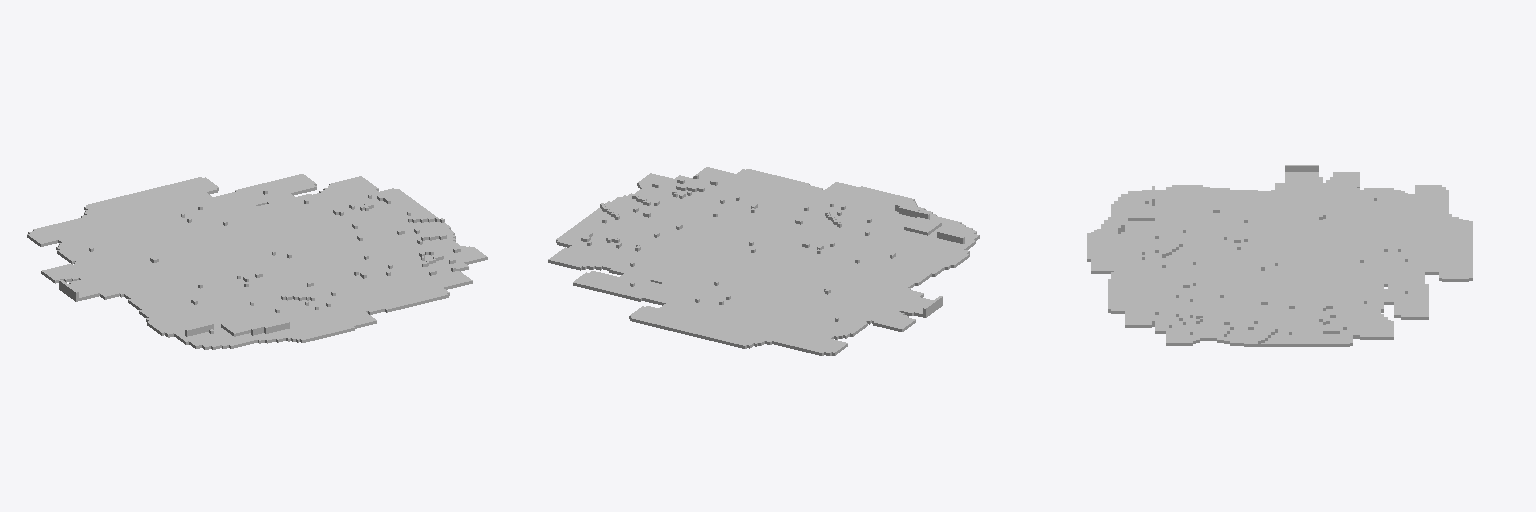
File: grass.obj
The picture shows the model from 3 angles: view 1: azimuth 30°, elevation 25°; view 2: azimuth 150°, elevation 25°; view 3: azimuth 270°, elevation 25°; orthographic projection.
Visible parts, largest first — view 1: grass; view 2: grass; view 3: grass.
Boxes of the visible parts, box(x1,y1,x2,y2) form: grass: box(27, 174, 487, 349); grass: box(548, 167, 979, 355); grass: box(1087, 165, 1472, 346).
Size of the model in its own units: 120 by 3 by 113.